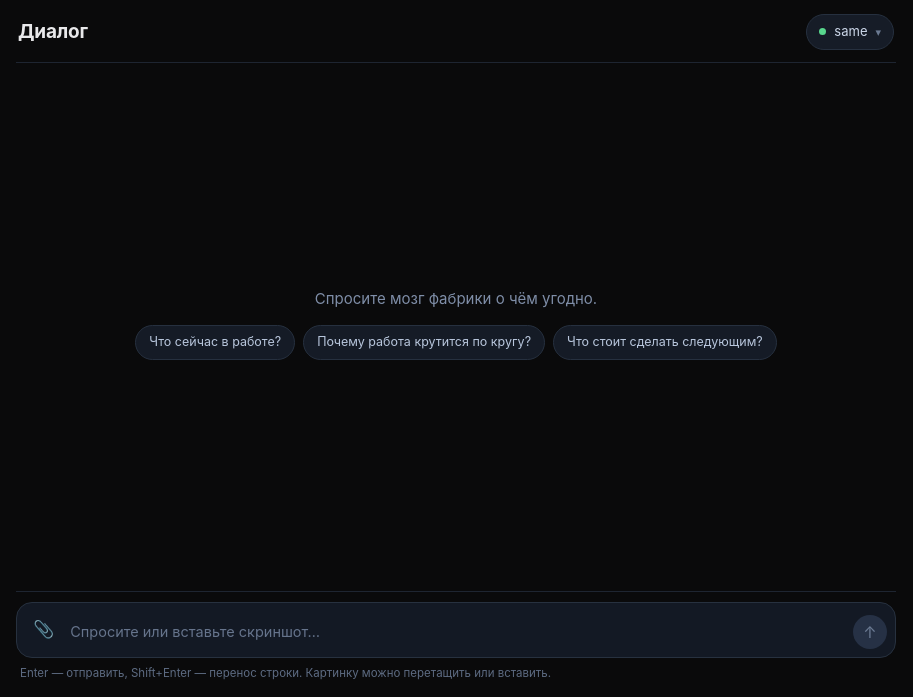
Test: blocks duplicate sends and preserves the question for retry after an error
Type "Не потеряй меня" into the text box named "Ваш вопрос". click: [457, 632]
box: left=68, top=615, right=845, bottom=649
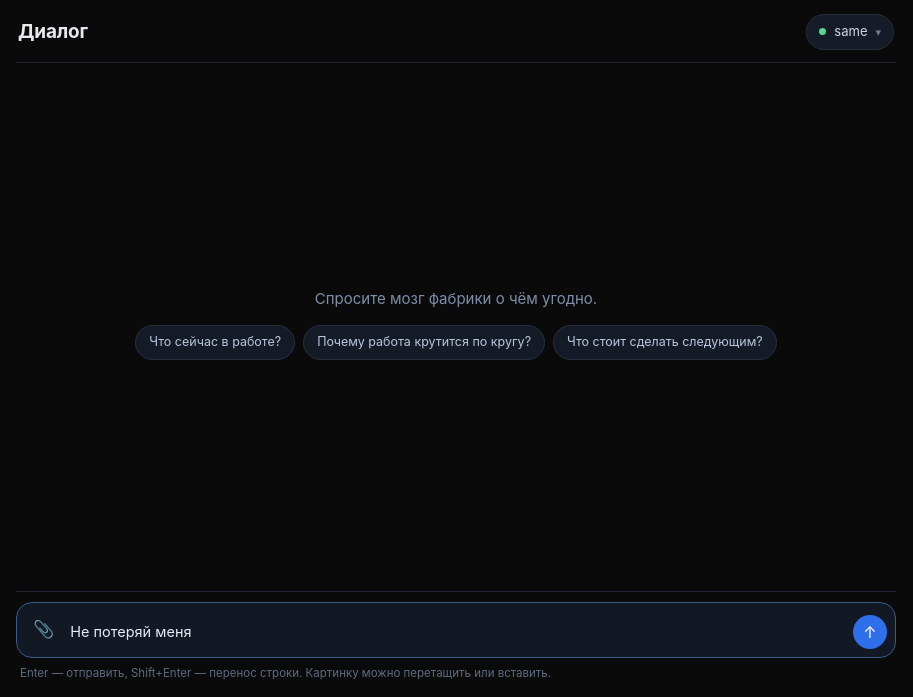
Click the button named "Отправить". click: [870, 632]
box: left=853, top=615, right=887, bottom=649
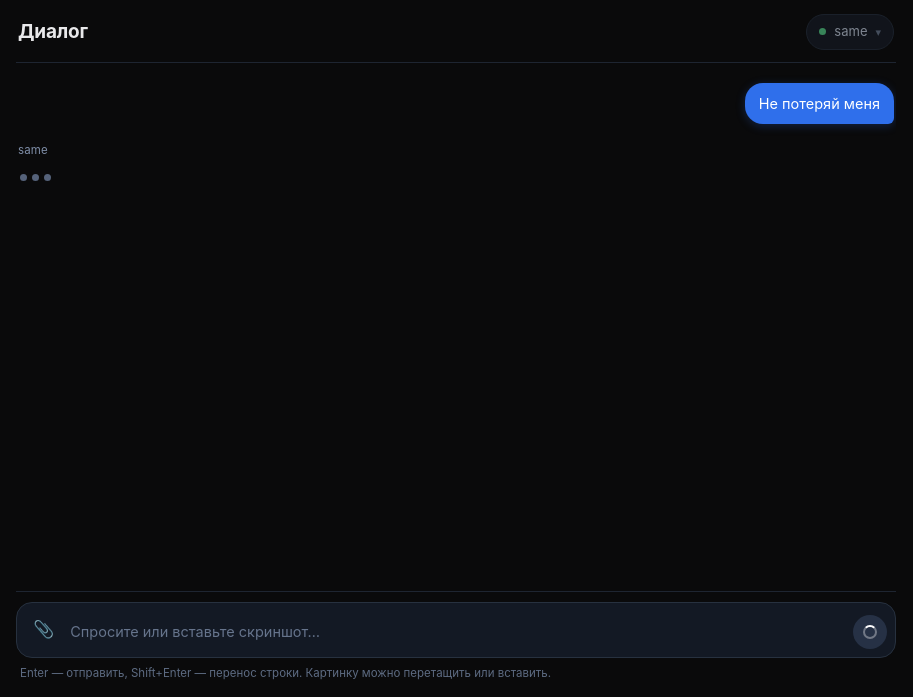
Now the button named "Модель думает…" is disabled
Click the button named "Модель думает…". click: [870, 632]
box: left=853, top=615, right=887, bottom=649
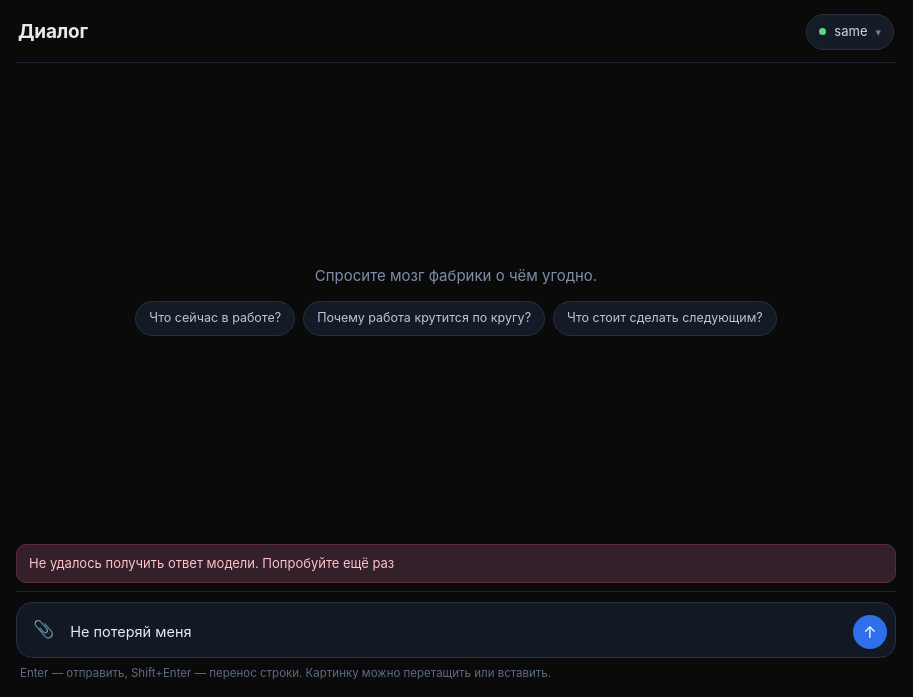
Now the message "Не удалось получить ответ модели. Попробуйте ещё раз" is shown, box left=16, top=544, right=896, bottom=583
Click the button named "Повторить". click: [870, 632]
box: left=853, top=615, right=887, bottom=649
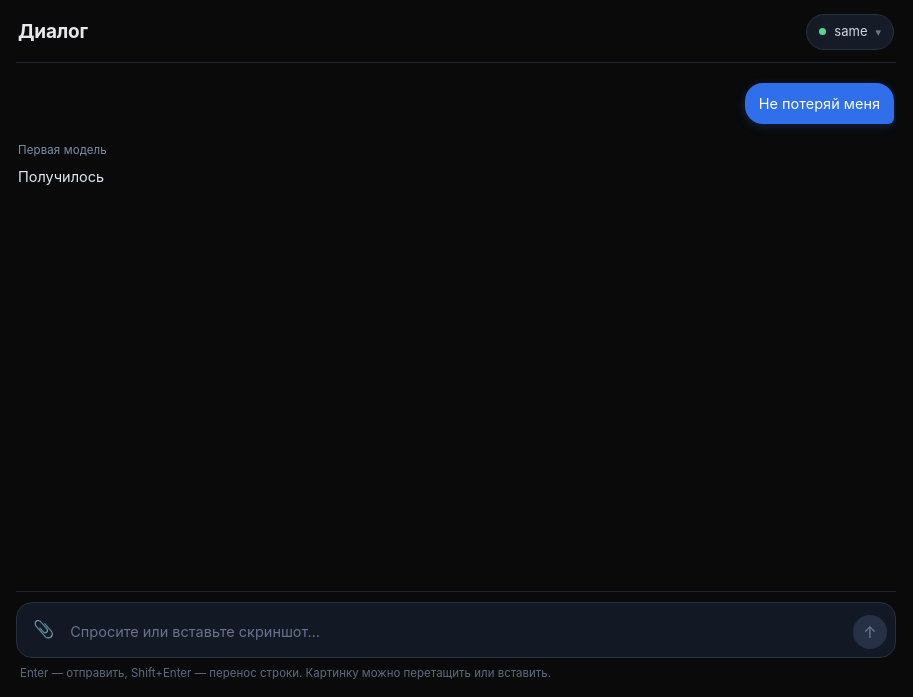
Now the text "Получилось" is shown, box left=18, top=164, right=107, bottom=188
